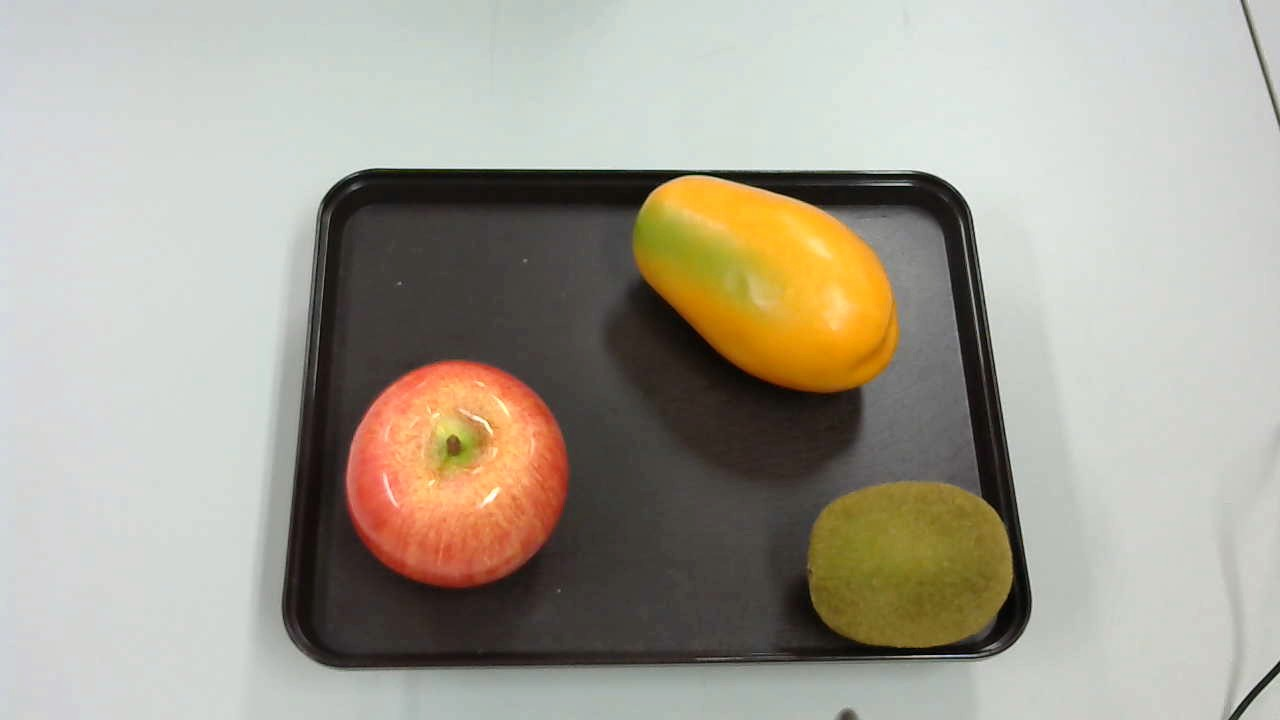kiwi fruit: (809, 482, 1016, 655)
papya: (623, 171, 907, 398)
red apple: (342, 355, 570, 592)
